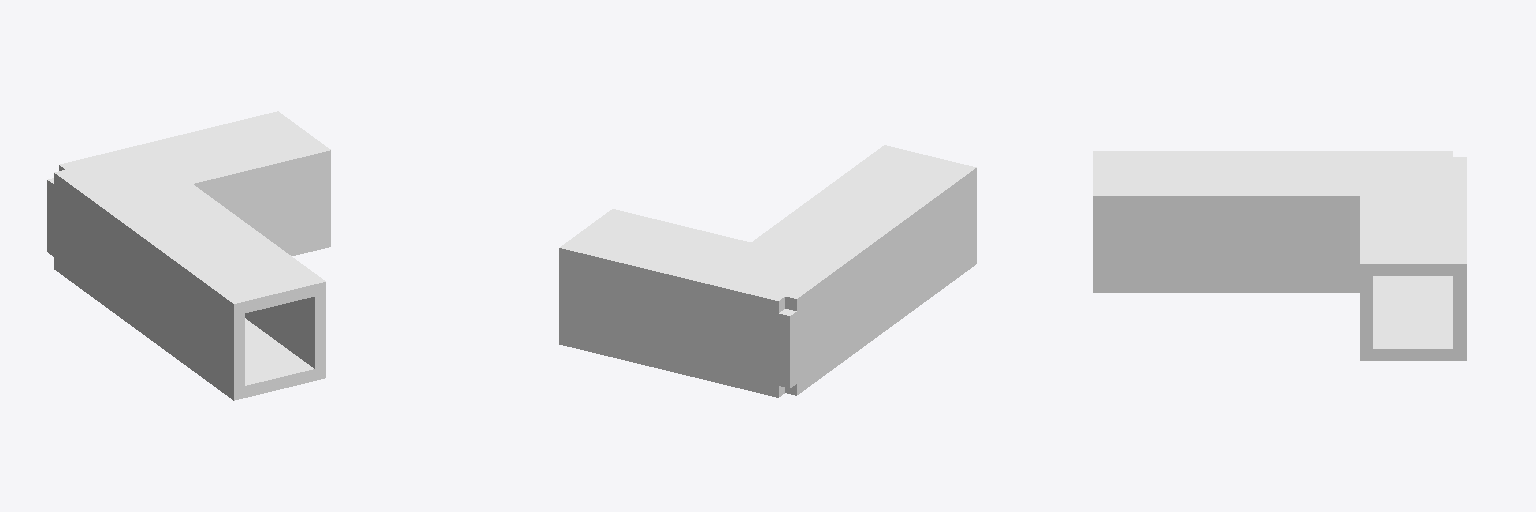
File: humanoid-78.obj
3 renders of one model, left to right at view 1: azimuth 30°, elevation 25°; view 2: azimuth 150°, elevation 25°; view 3: azimuth 270°, elevation 25°, orthographic.
Parts seen in each view (by area): view 1: humanoid-78; view 2: humanoid-78; view 3: humanoid-78.
Boxes of the visible parts, box(x1,y1,x2,y2) form: humanoid-78: box(47, 111, 330, 400); humanoid-78: box(559, 145, 976, 397); humanoid-78: box(1093, 151, 1466, 360).
Size of the model in its own units: 20 by 8 by 28.